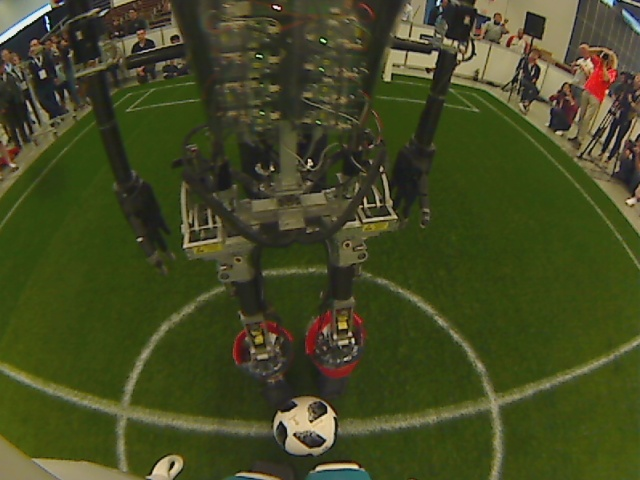ball: (268, 393, 342, 462)
